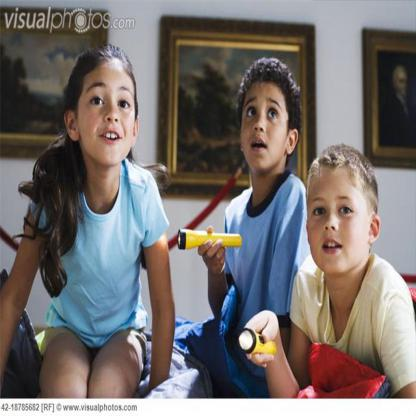face: (307, 177, 369, 274), (81, 69, 136, 164), (244, 92, 289, 168)
